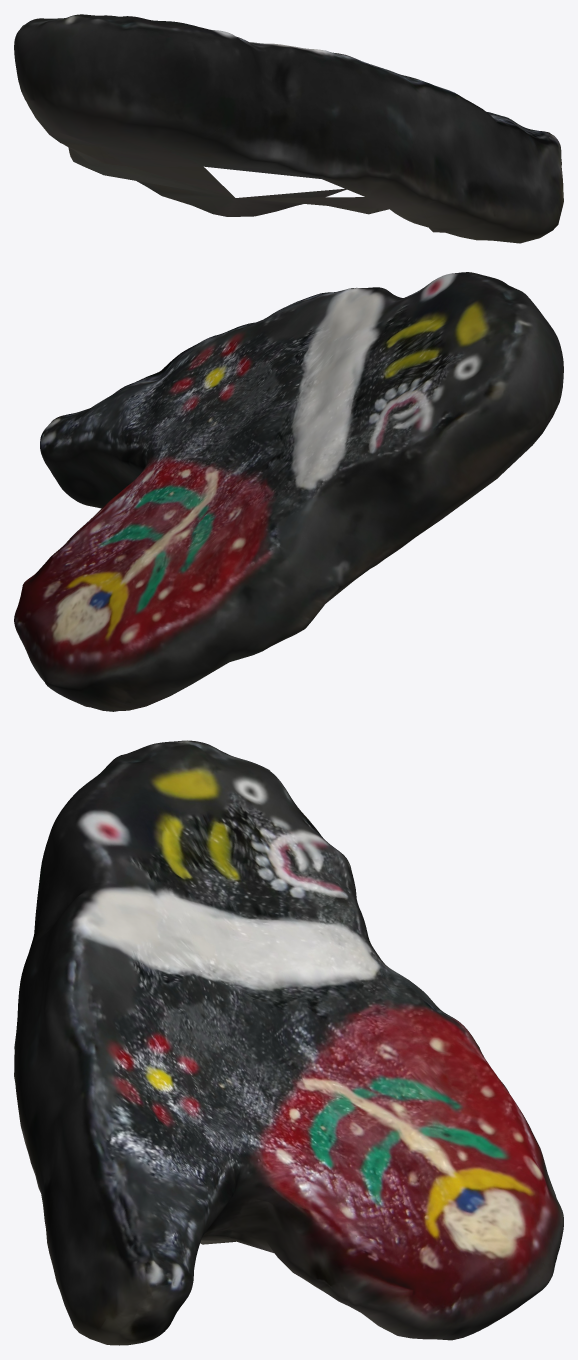
The picture shows the model from 3 angles, top to bottom: view 1: azimuth 30°, elevation 25°; view 2: azimuth 150°, elevation 25°; view 3: azimuth 270°, elevation 25°; orthographic projection. The views are drawn at different scales.
Bounding box in the file's own units: 0.6148 × 0.4082 × 0.4863.
Materials: 1 (1 with a texture image).
